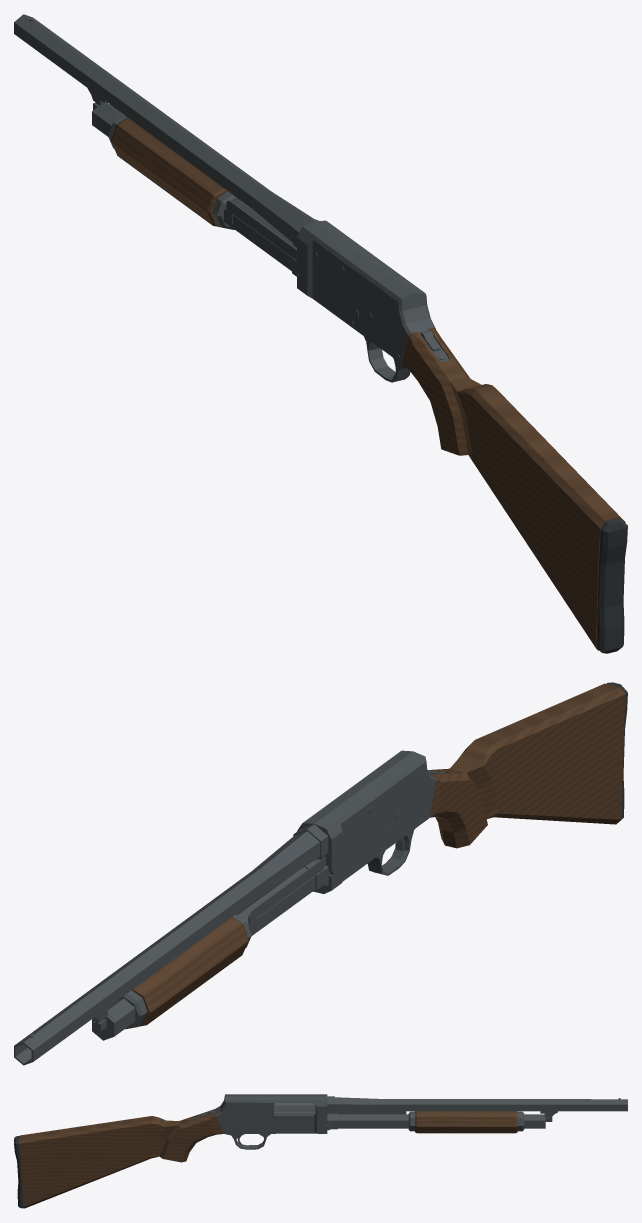
Rendered from shotgun_world.glb.
The picture shows the model from 3 angles, top to bottom: view 1: azimuth 30°, elevation 25°; view 2: azimuth 150°, elevation 25°; view 3: azimuth 270°, elevation 25°; orthographic projection. The views are drawn at different scales.
Parts seen in each view (by area): view 1: Supplied Stevens body, Supplied Stevens pump; view 2: Supplied Stevens body, Supplied Stevens pump; view 3: Supplied Stevens body, Supplied Stevens pump.
Part boxes in pixels (bbox=[...]): Supplied Stevens body: bbox=[14, 14, 627, 653]; Supplied Stevens pump: bbox=[108, 115, 296, 260]; Supplied Stevens body: bbox=[14, 682, 627, 1065]; Supplied Stevens pump: bbox=[118, 857, 325, 1029]; Supplied Stevens body: bbox=[14, 1094, 627, 1208]; Supplied Stevens pump: bbox=[274, 1103, 524, 1133].
Size of the model in its own units: 0.0412 by 0.2022 by 1.02.
4 materials, 1 textured.
